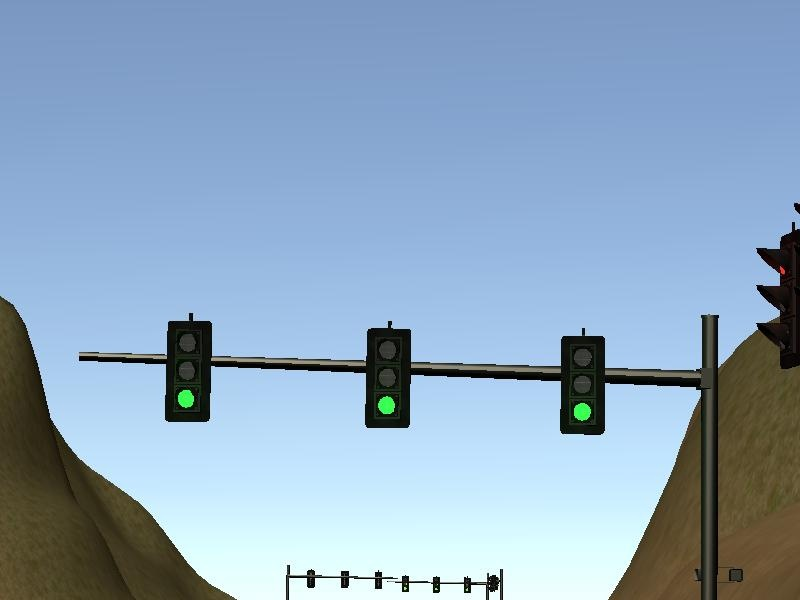green: (162, 314, 218, 428), (559, 327, 613, 440), (363, 322, 417, 433)
